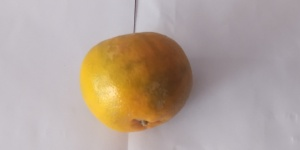BAD: (78, 31, 198, 138)
